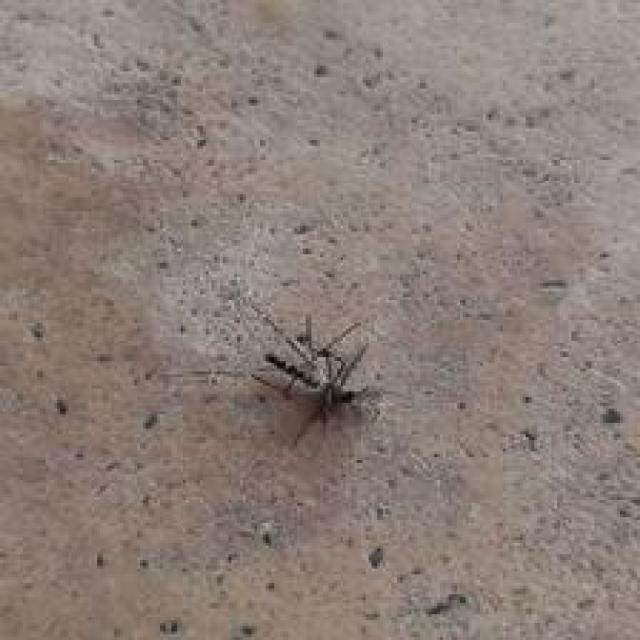Aedes albopictus: (250, 307, 384, 450)
